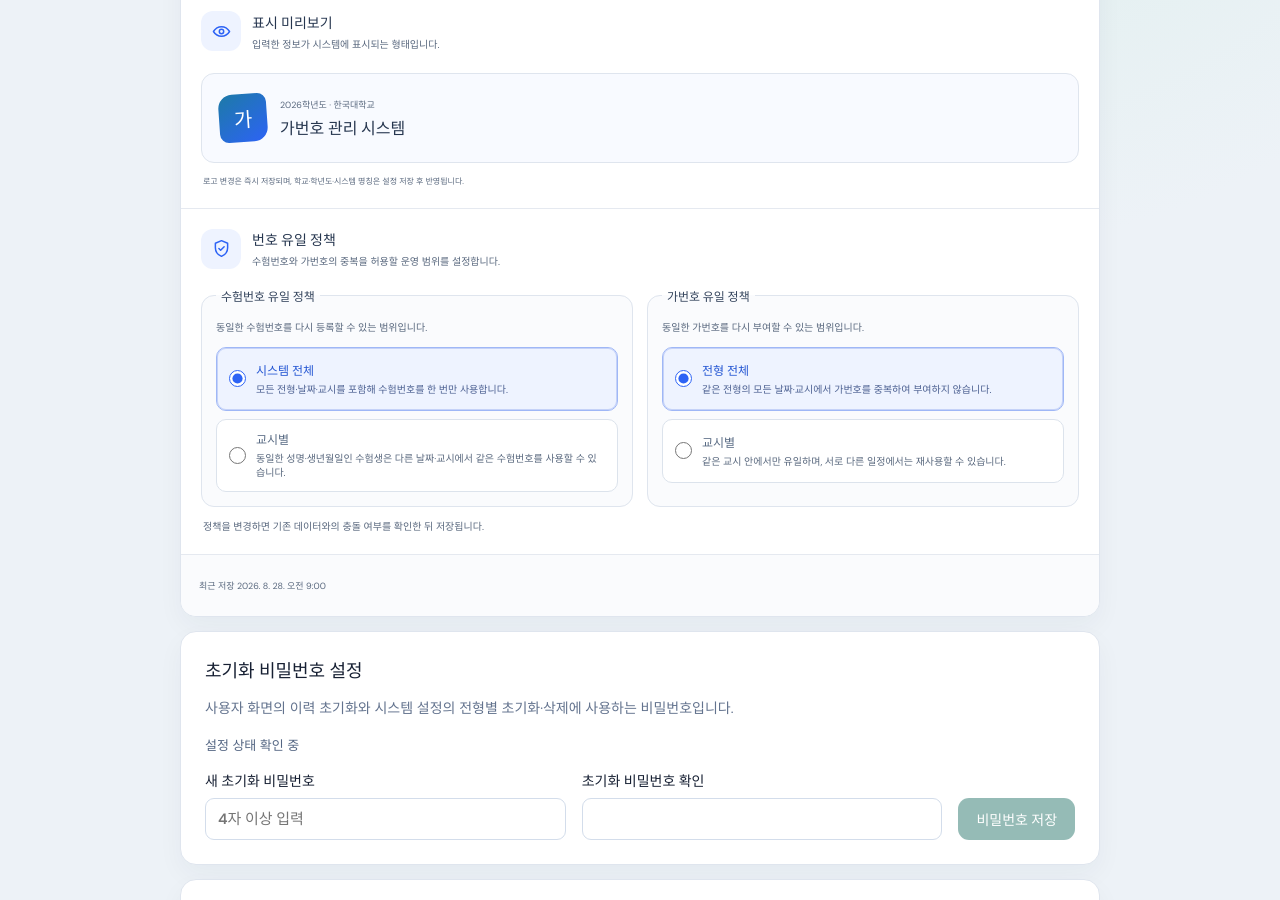
Test case: DeveloperSettingsPage number uniqueness policy › keeps the changed policy editable and displays a rejected save
This screenshot has width=1280, height=900.
(page scrolled)
Click the radio button labelled "교시별 같은 교시 안에서만 유일하며, 서로 다른 일정에서는 재사용할 수 있습니다.": (684, 451) [675,442,692,459]
(page scrolled)
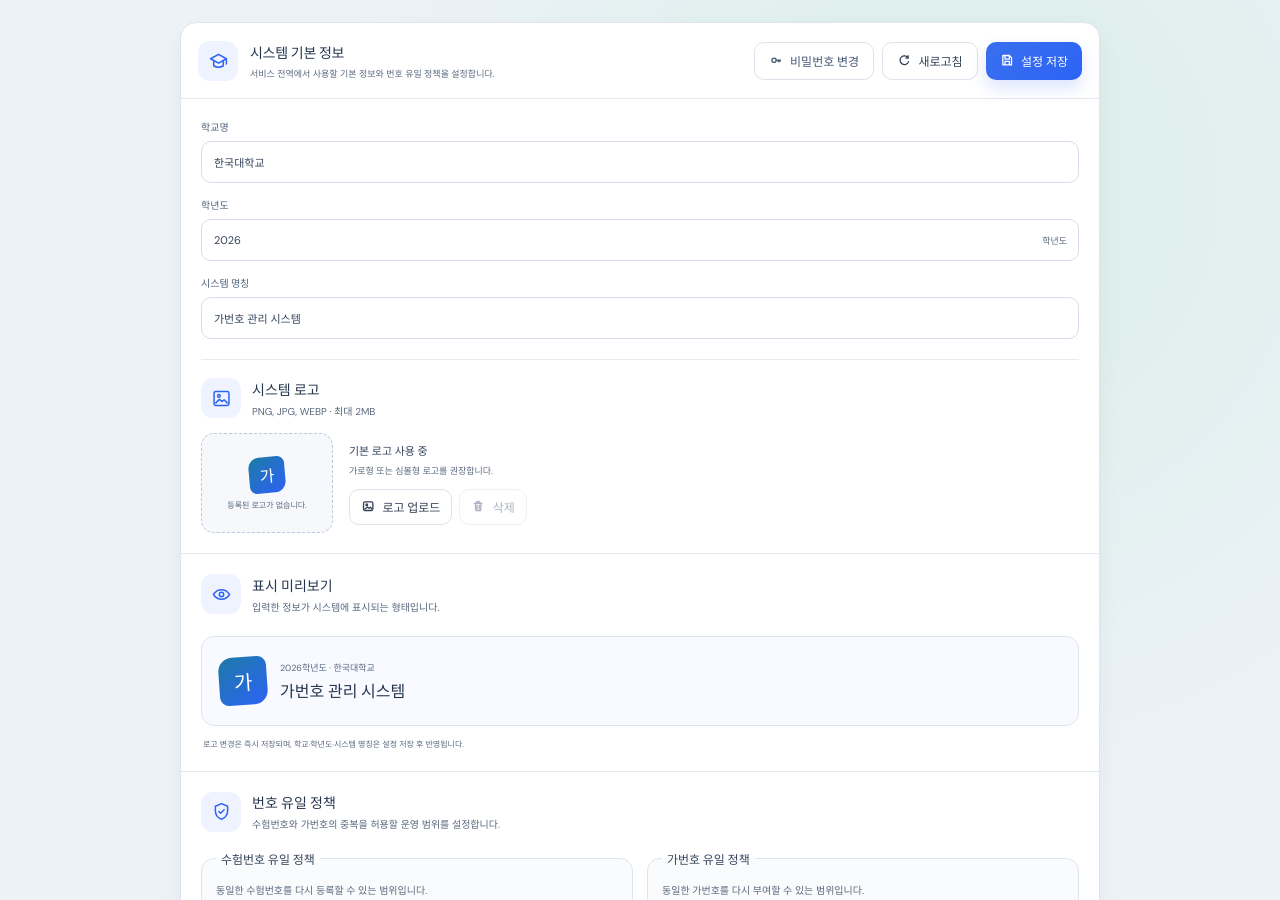
Click the button "설정 저장": (1034, 60) [986,42,1082,80]
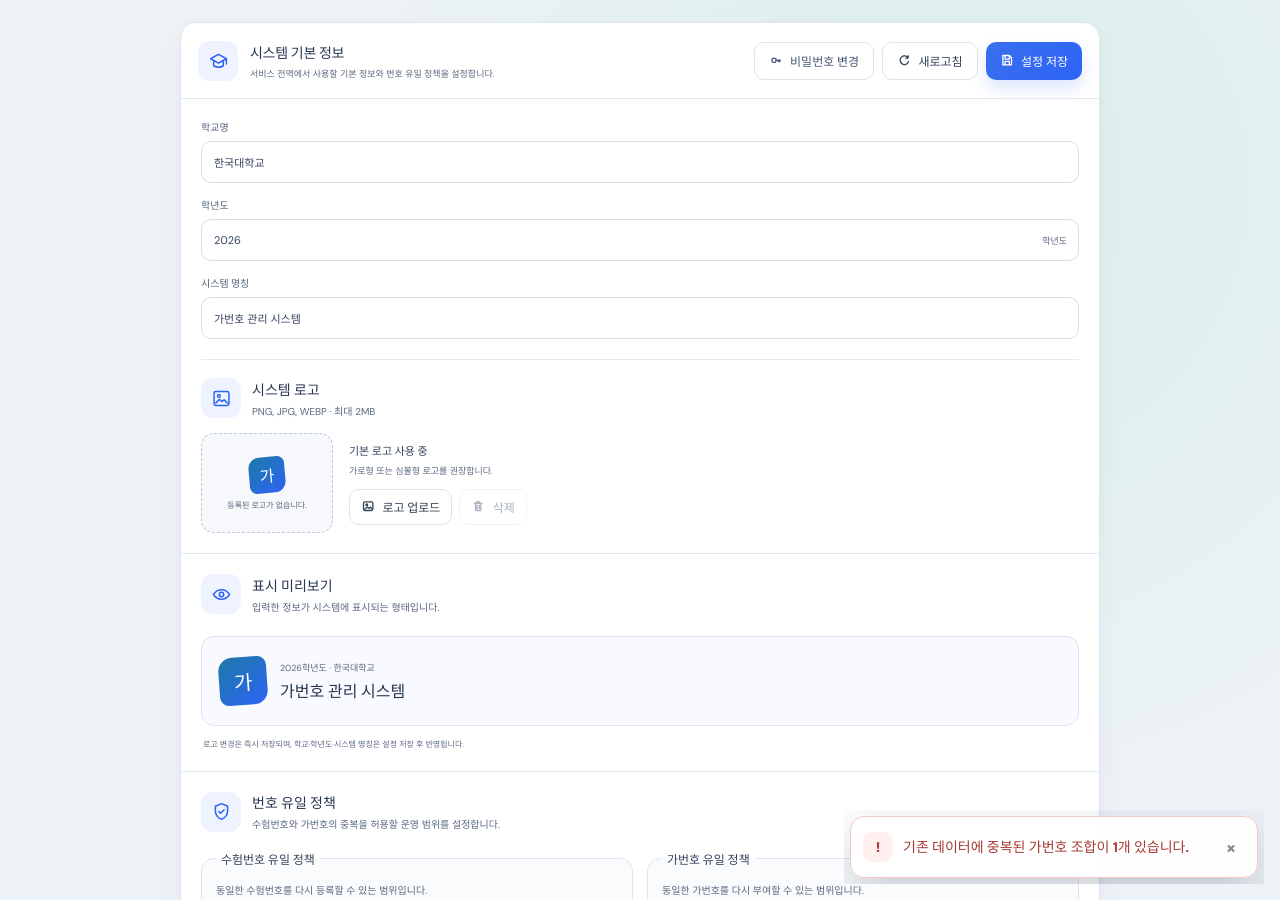
Expected: the button "설정 저장" is enabled, [986,42,1082,80]
Expected: the message shows "기존 데이터에 중복된 가번호 조합이 1개 있습니다.", [903,838,1189,856]
